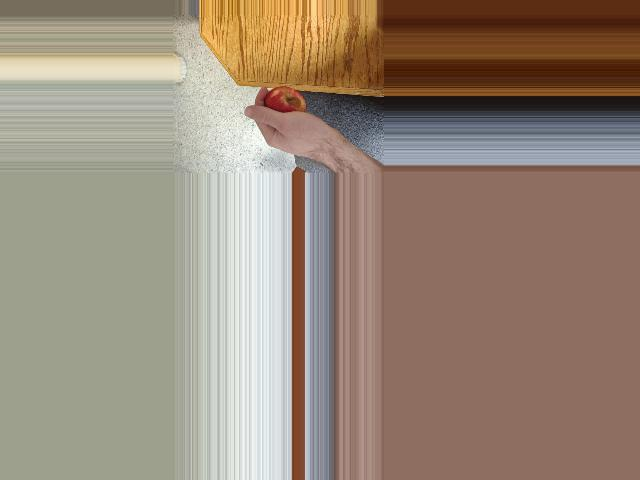apple: (259, 82, 299, 123)
